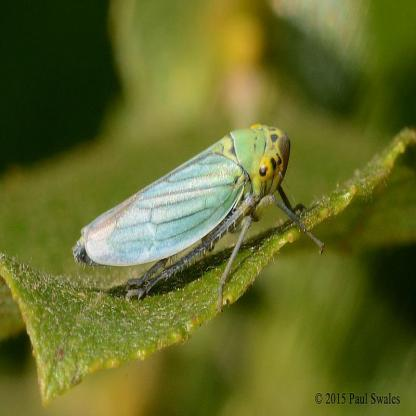Green-Leafhopper: (71, 122, 330, 314)
